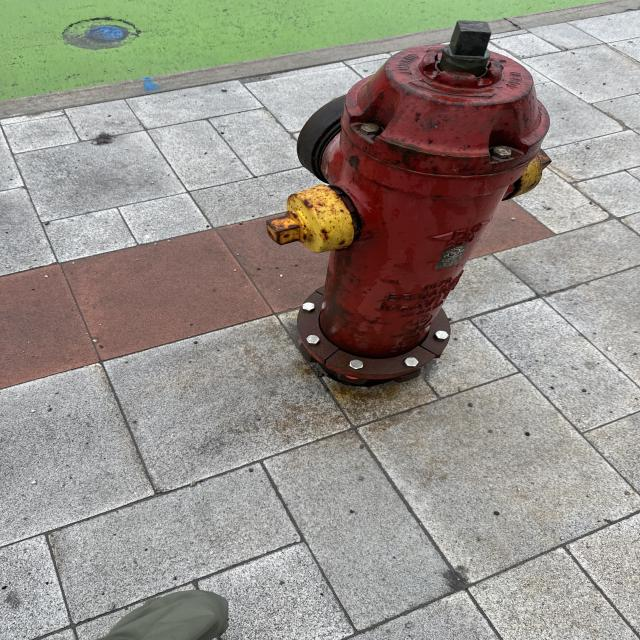Fire hydrant: (264, 19, 553, 388)
